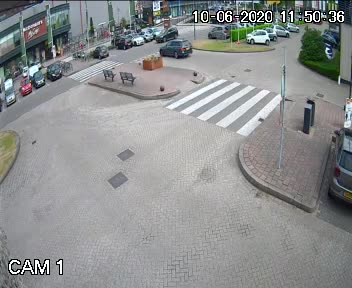car: (158, 38, 195, 61), (151, 24, 181, 43)
